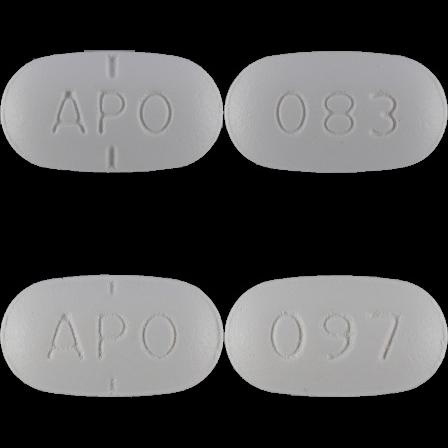64725-0083: (0, 0, 224, 224)
